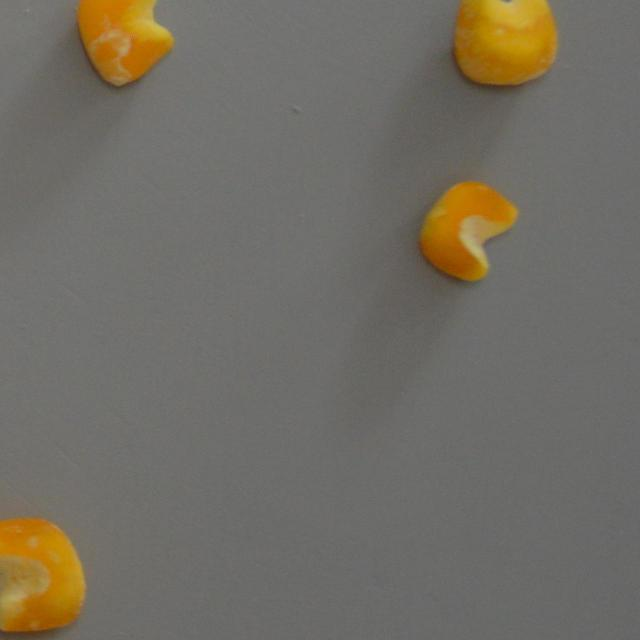no_canjicado: (418, 180, 519, 282), (452, 0, 558, 86)
pelicula: (0, 516, 86, 634), (72, 0, 178, 88)
